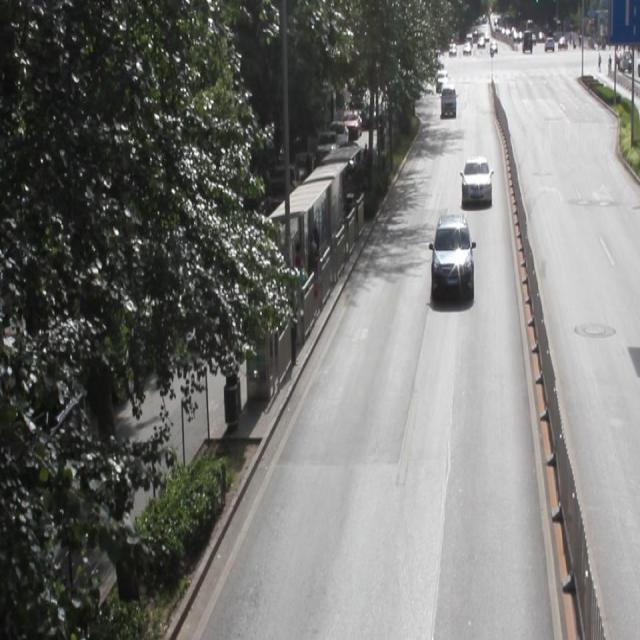car: (431, 211, 470, 292), (460, 154, 490, 204)
